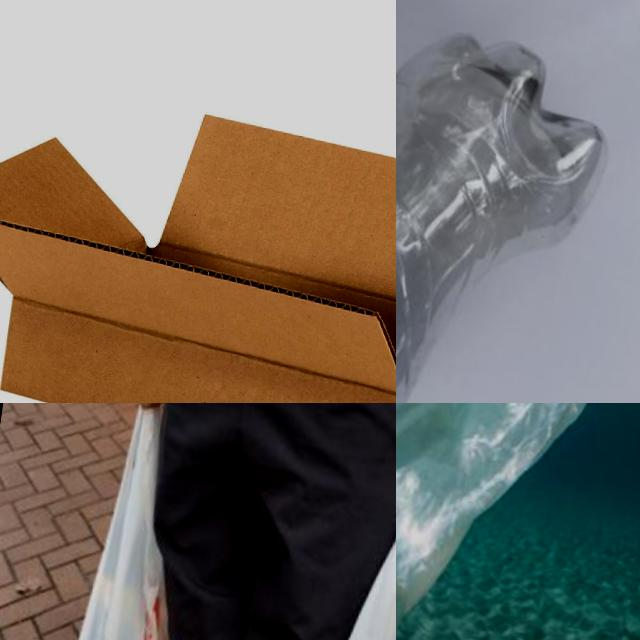garrafa plástica: (0, 86, 396, 403), (396, 0, 623, 403)
sacola plástica: (396, 403, 630, 640), (29, 403, 227, 640), (249, 463, 396, 640)
